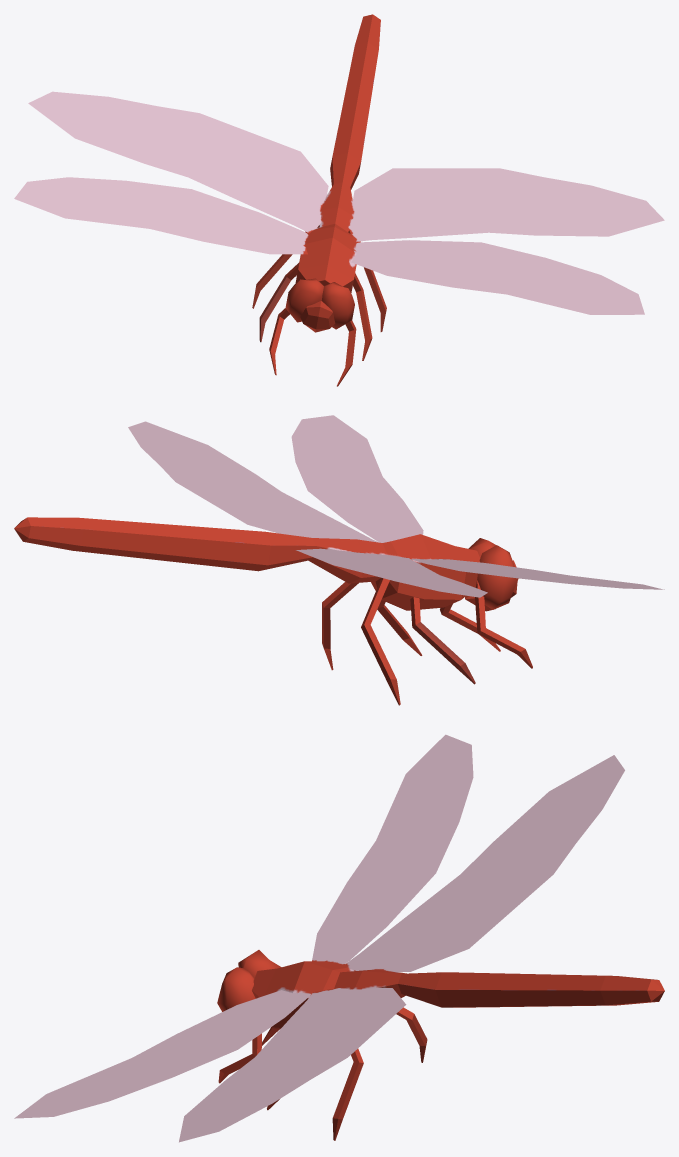
File: fly1.glb
3 renders of one model, top to bottom at view 1: azimuth 30°, elevation 25°; view 2: azimuth 150°, elevation 25°; view 3: azimuth 270°, elevation 25°, orthographic. The views are drawn at different scales.
Visible parts, largest first — view 1: mesh_id6, mesh_id5; view 2: mesh_id6, mesh_id5; view 3: mesh_id6, mesh_id5.
Part boxes in pixels (x1,y1,x2,y2): mesh_id6: (14, 91, 664, 314); mesh_id5: (252, 14, 386, 386); mesh_id6: (128, 415, 664, 597); mesh_id5: (14, 517, 532, 705); mesh_id6: (14, 734, 624, 1142); mesh_id5: (217, 950, 664, 1140).
Size of the model in its own units: 0.7602 by 0.2739 by 0.6542.
Materials: 2 (2 with a texture image).
